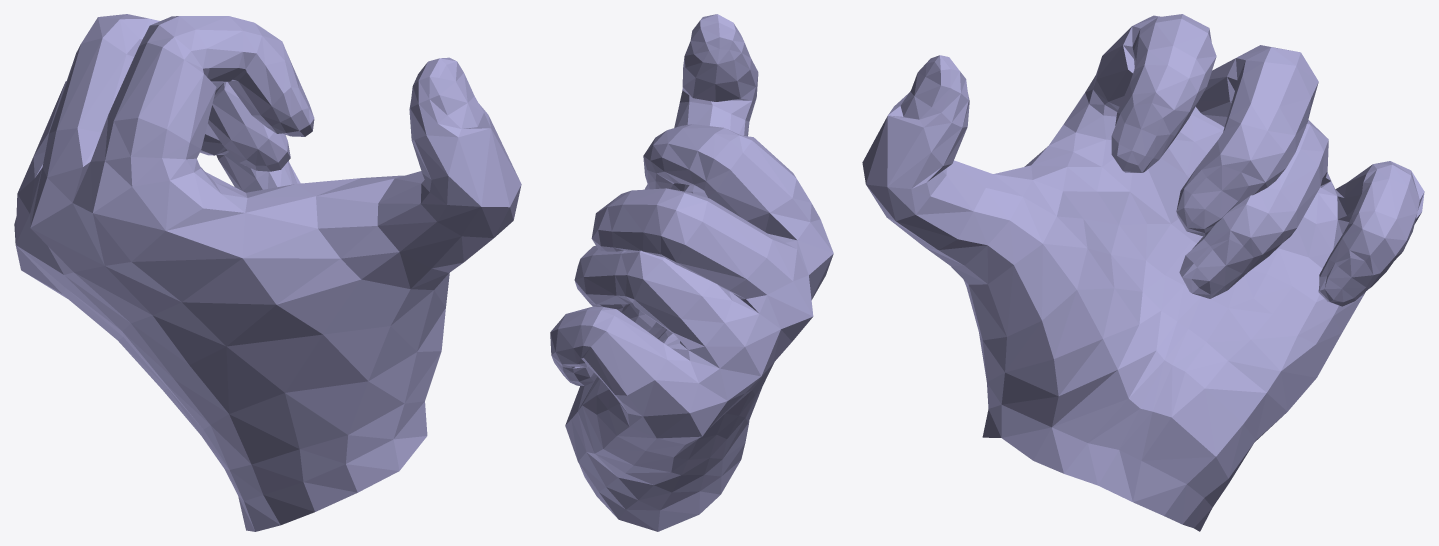
File: frame_0096_source_000096_hand.glb
The picture shows the model from 3 angles, left to right: view 1: azimuth 30°, elevation 25°; view 2: azimuth 150°, elevation 25°; view 3: azimuth 270°, elevation 25°; orthographic projection. The views are drawn at different scales.
Visible parts, largest first — view 1: world; view 2: world; view 3: world.
Boxes of the visible parts, left/top/right/bottom form: world: left=14, top=14, right=521, bottom=531; world: left=550, top=14, right=833, bottom=531; world: left=862, top=14, right=1424, bottom=531.
Bounding box in the file's own units: 0.0749 × 0.12 × 0.1233.
